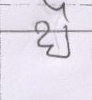ai_matra: (45, 0, 75, 29)
